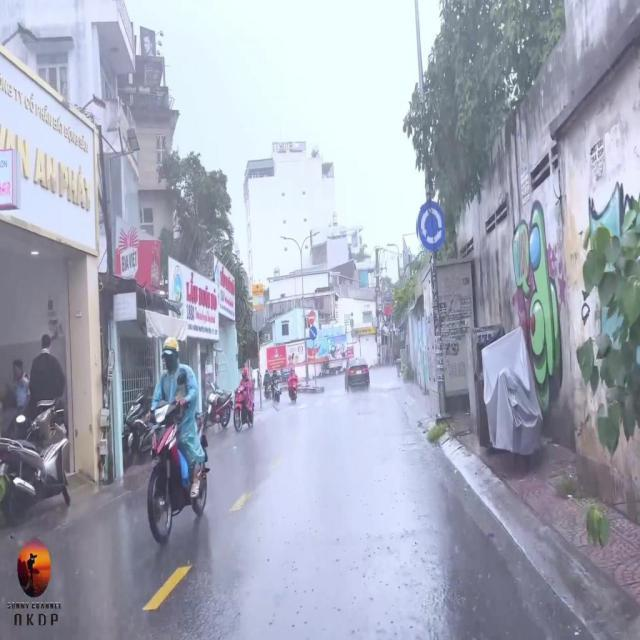102-cam-di-nguoc-chieu: (308, 311, 316, 324)
302a-huong-phai-di-vong-chuong-ngai-vat-1: (308, 326, 318, 339)
303-noi-giao-nhau-chay-theo-vong-xuyen: (416, 201, 446, 251)
